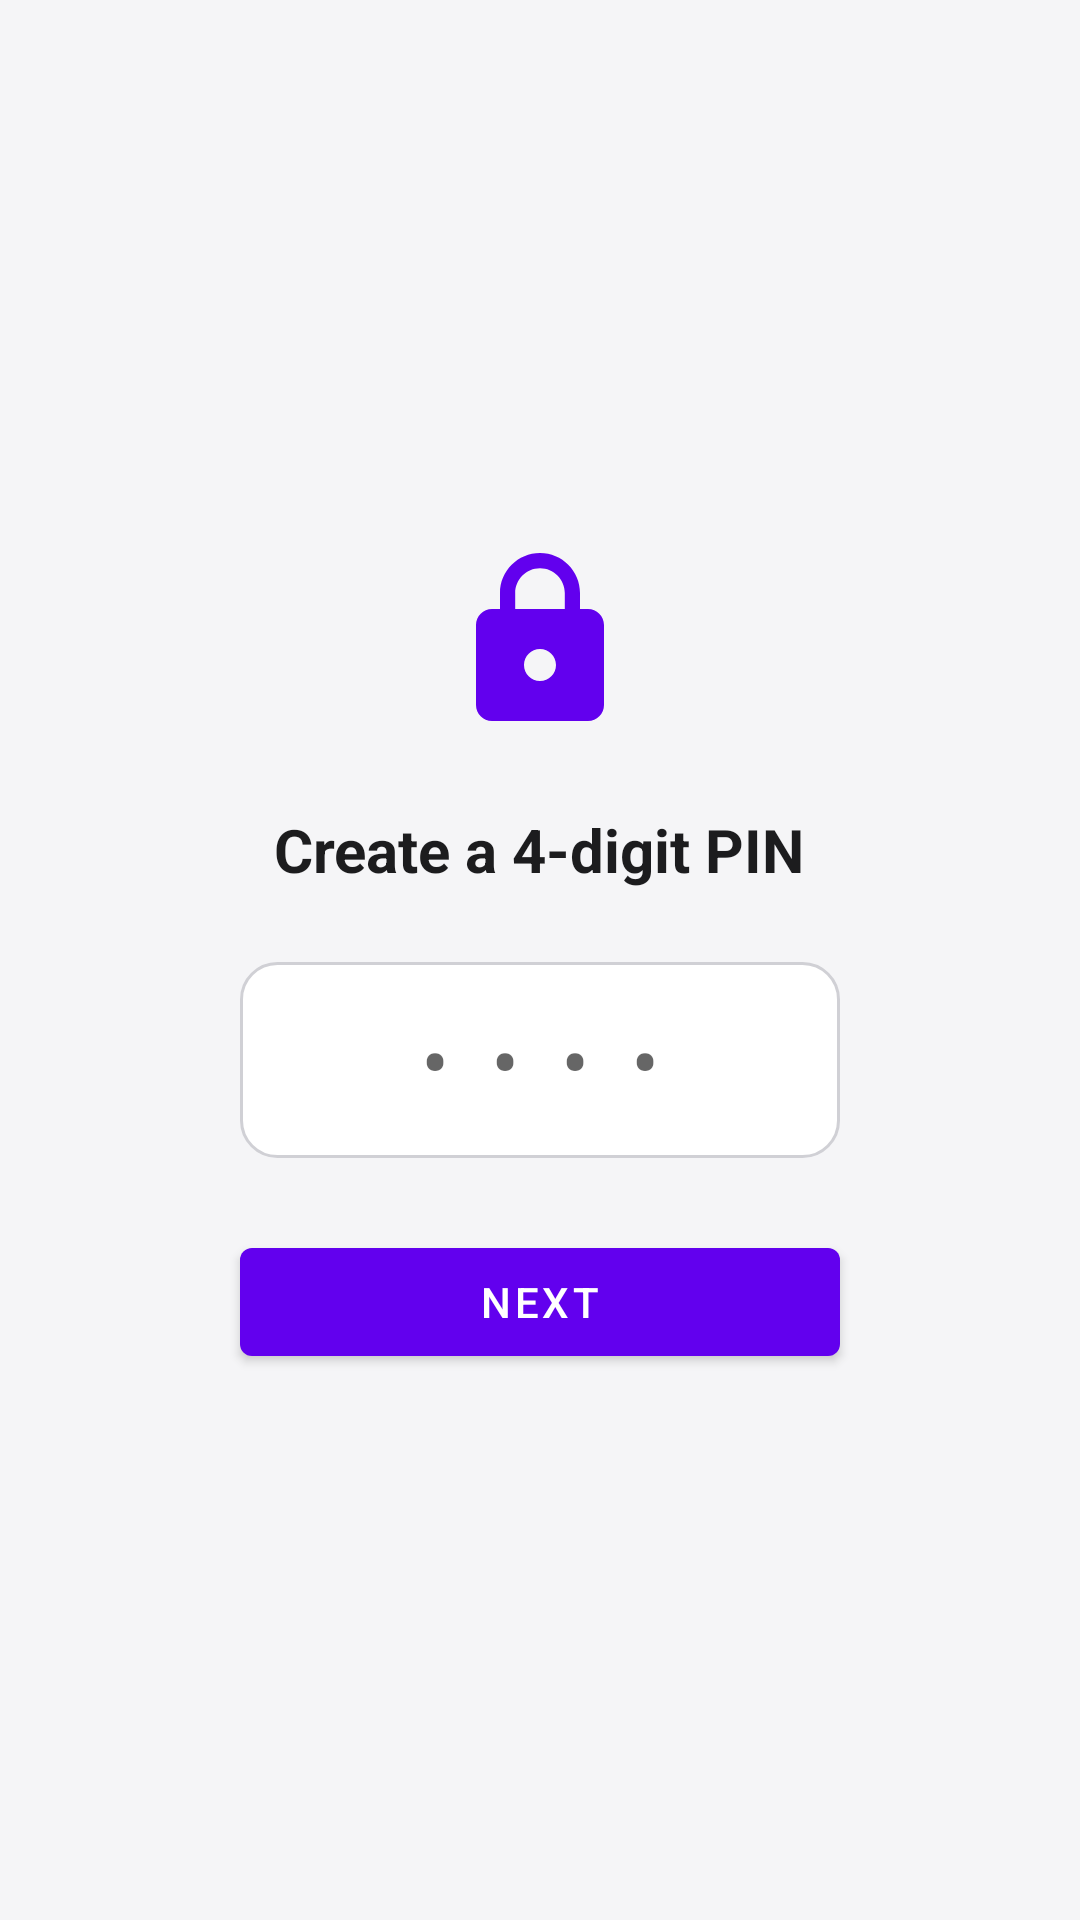

Icons on this 1080px×1920px Android screen, each with the point to tap as (x=x, y=y):
lock: (x=540, y=637)
